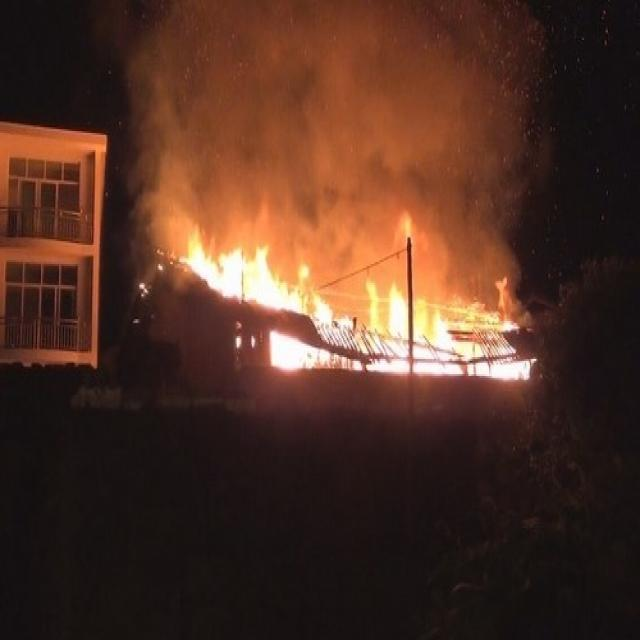Smoke: (76, 0, 558, 330)
